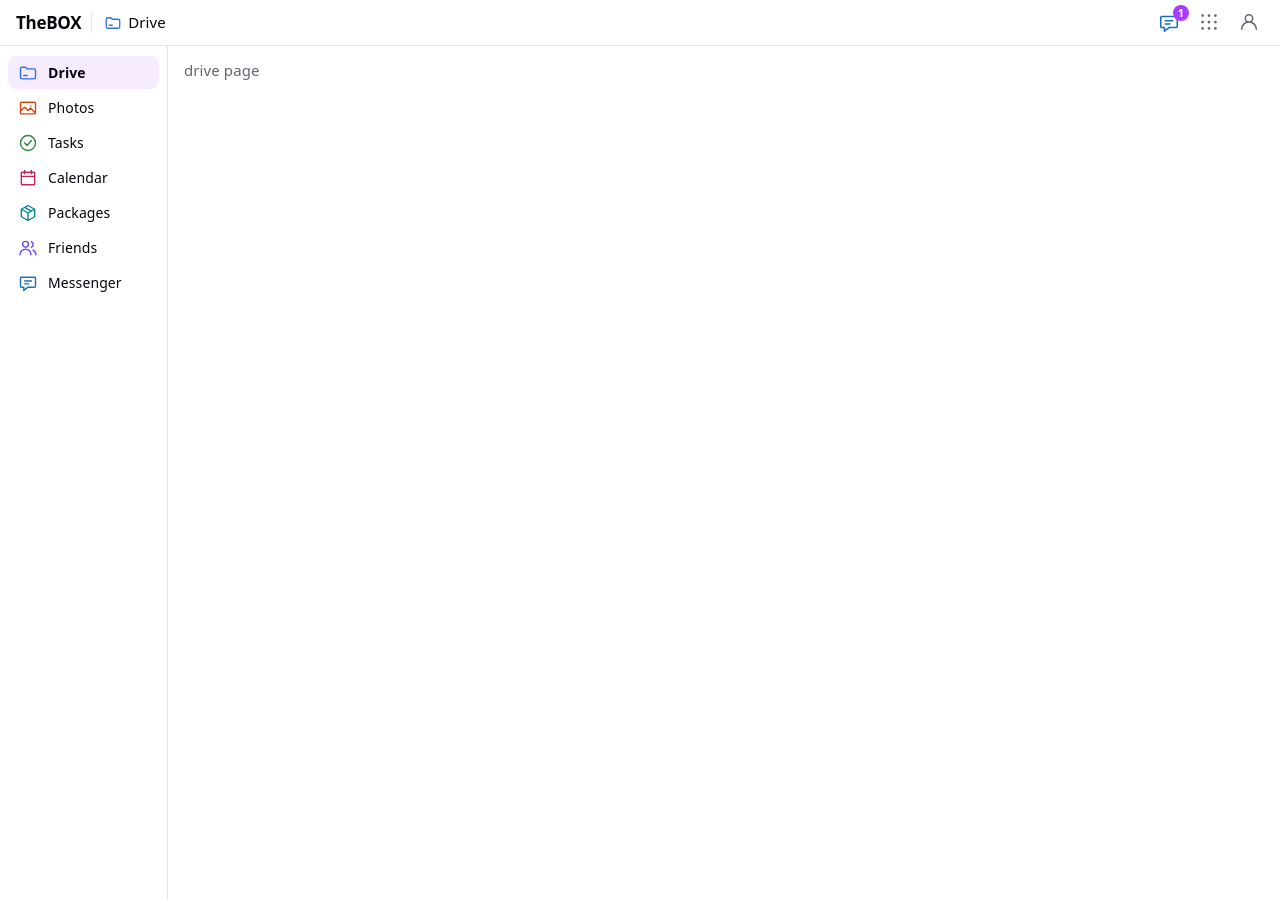
Test: Files in the Messenger › shows the files of a message, to open and to download
What coordinates should you click on to do the following:
click the button named "Messenger"
I would click on:
 (1169, 22)
Its box is [1154,8,1184,38].
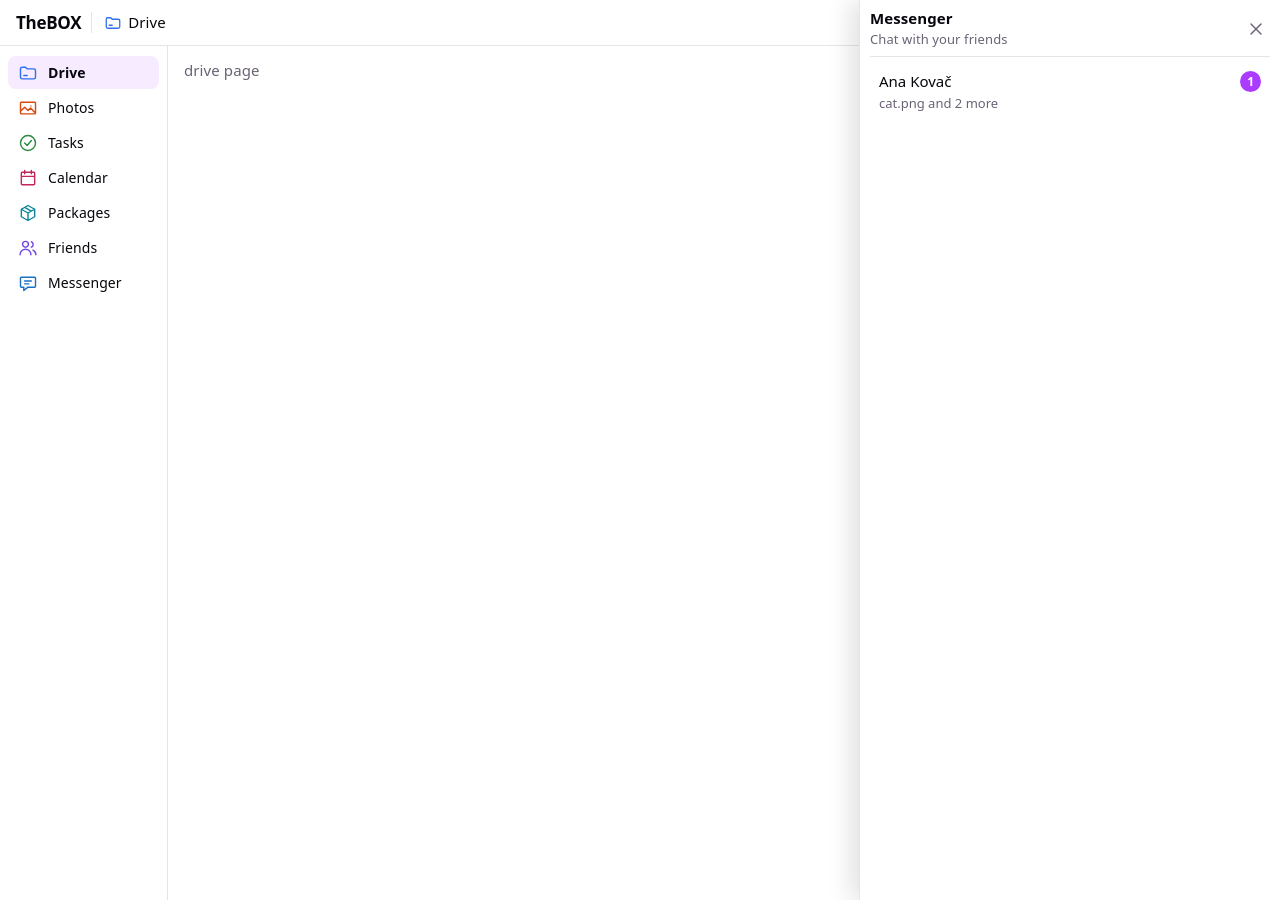
Expected: the button "Ana Kovač 1 cat.png and 2 more" is shown
What coordinates should you click on to do the following:
click the button "Ana Kovač 1 cat.png and 2 more"
I would click on:
 (915, 81)
Its box is [870,65,1270,120].
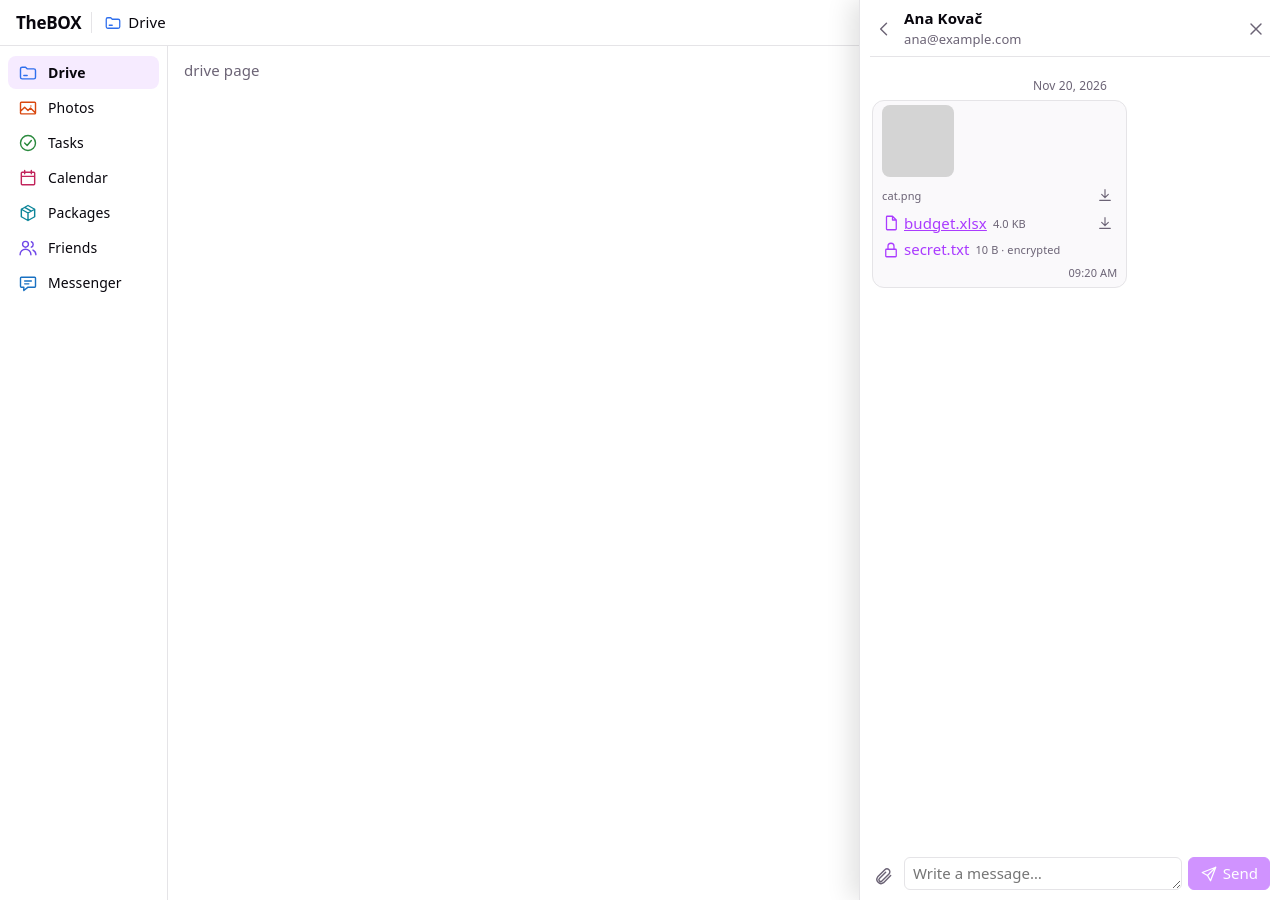
What coordinates should you click on to do the following:
click the button with aria-label "Unlock and download secret.txt"
I would click on:
 (926, 250)
Its box is [882,239,969,260].
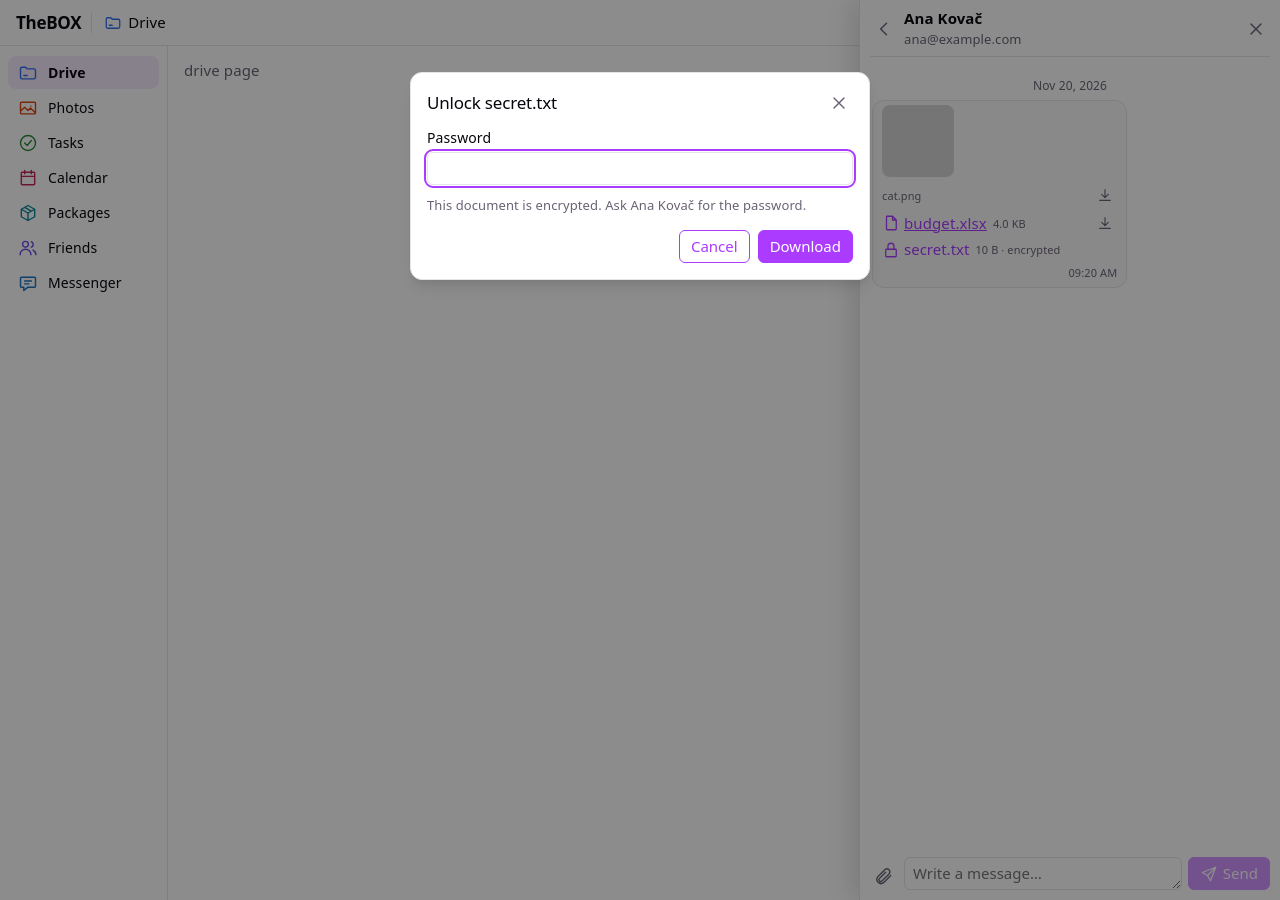
Expected: the dialog "Unlock secret.txt" shows "Ask Ana Kovač for the password.", [427,196,806,214]
